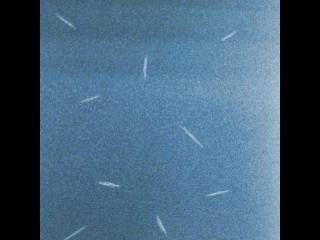scratch: (178, 122, 206, 152), (51, 9, 79, 34), (136, 52, 154, 84), (149, 212, 172, 236), (216, 26, 241, 47), (62, 223, 92, 240), (74, 91, 104, 106), (202, 186, 232, 200), (95, 178, 122, 190)
